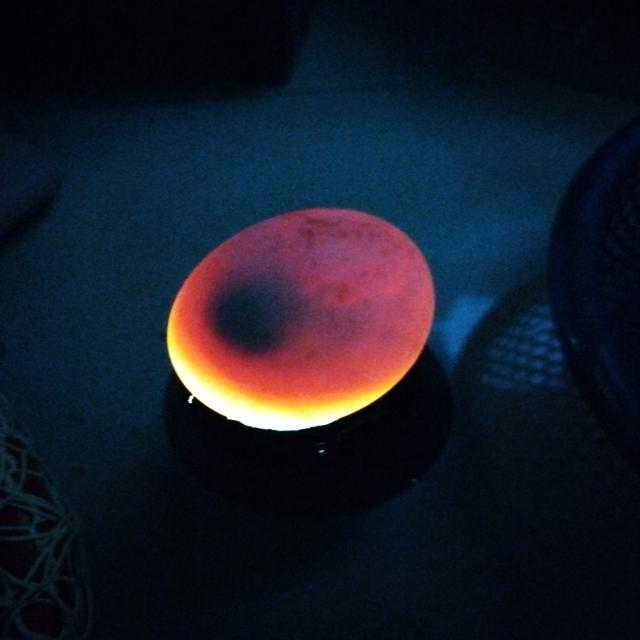Area Infectada: (203, 251, 337, 354)
